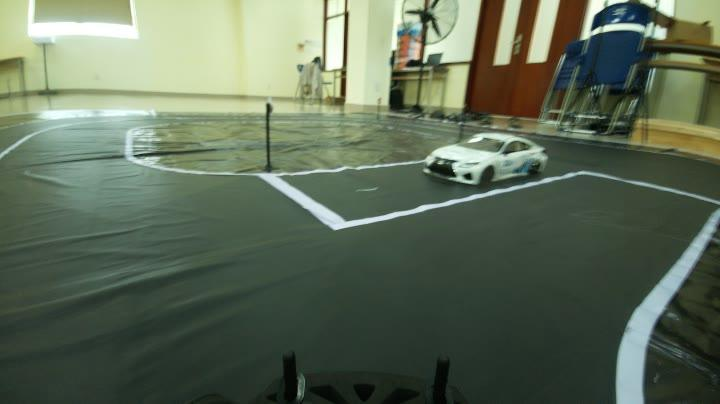car: (415, 125, 563, 187)
